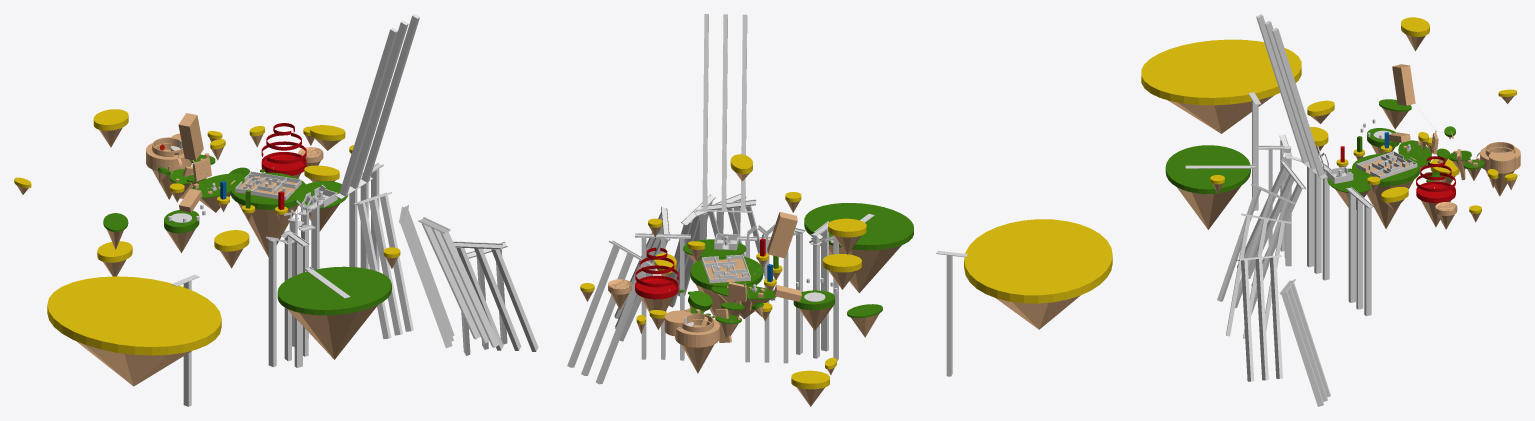
The model's file is blockout_do_exportu.fbx.
3 renders of one model, left to right at view 1: azimuth 30°, elevation 25°; view 2: azimuth 150°, elevation 25°; view 3: azimuth 270°, elevation 25°, orthographic. The views are drawn at different scales.
Parts seen in each view (by area): view 1: Cylinder.035, Cylinder.015, Cone.013, Cone.025, Cube.038, Cube.039, Cube.040, Cube.026, Cone.010, Cube.149, Cube.162, Cube.151 (+26 smaller); view 2: Cylinder.035, Cylinder.015, Cone.013, Cylinder.005, Cone.025, Cube.040, Cube.039, Cube.174, Cube.055, Cylinder.013, Cube.038, Cube.175 (+14 smaller); view 3: Cylinder.035, Cylinder.015, Cone.025, Cube.039, Cone.013, Cube.038, Cube.164, Cube.166, Cube.165, Cube.174, Cube.033, Cube.031 (+28 smaller).
Boxes of the visible parts, x1,y1,x2,y2 form: Cylinder.035: (47,276,221,355); Cylinder.015: (277,266,391,315); Cone.013: (287,305,377,359); Cone.025: (76,341,191,386); Cube.038: (339,27,397,196); Cube.039: (361,14,419,182); Cube.040: (350,20,408,188); Cube.026: (268,239,276,367); Cone.010: (238,203,298,256); Cube.149: (380,195,413,331); Cube.162: (440,232,499,347); Cube.151: (369,198,402,335); Cylinder.035: (964,219,1112,303); Cylinder.015: (804,203,913,250); Cone.013: (820,241,901,293); Cylinder.005: (675,313,719,347); Cone.025: (996,295,1080,329); Cube.040: (721,14,727,211); Cube.039: (702,14,708,210); Cube.174: (567,245,619,367); Cube.055: (767,212,797,258); Cylinder.013: (690,256,763,290); Cube.038: (741,14,747,211); Cube.175: (581,253,633,375); Cylinder.035: (1141,39,1301,105); Cylinder.015: (1165,145,1250,193); Cone.025: (1168,95,1274,133); Cube.039: (1271,27,1324,176); Cone.013: (1177,185,1241,229); Cube.038: (1256,14,1307,163); Cube.164: (1255,258,1268,380); Cube.166: (1269,257,1282,378); Cube.165: (1241,260,1254,381); Cube.174: (1281,291,1323,406); Cube.033: (1364,205,1371,316); Cube.031: (1356,198,1363,309).
Bounding box in the file's own units: 173161 × 126981 × 130419.
